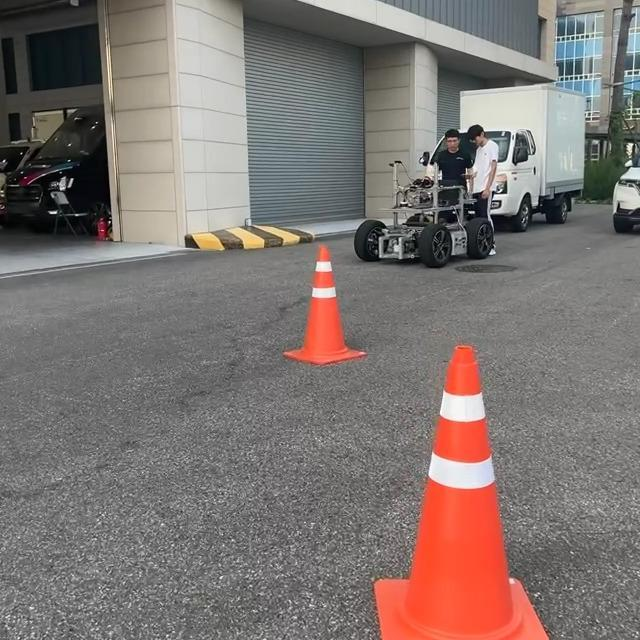fallen_object: (309, 336, 529, 640), (269, 252, 360, 379)
